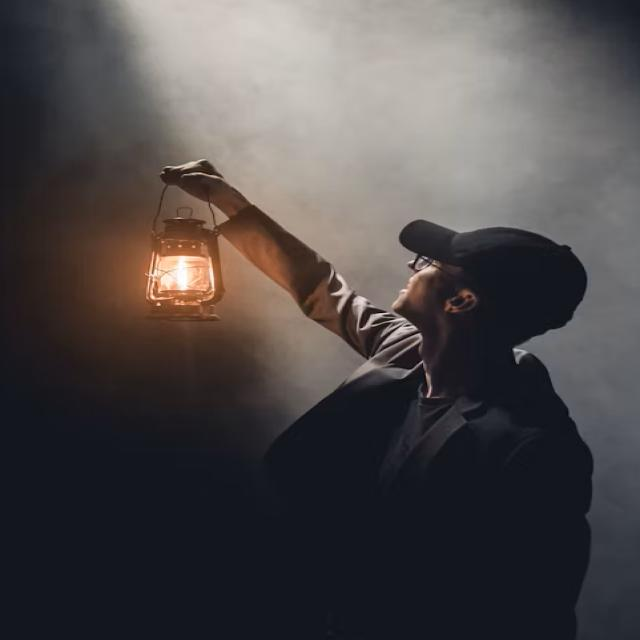Edited images: (143, 140, 638, 640)
